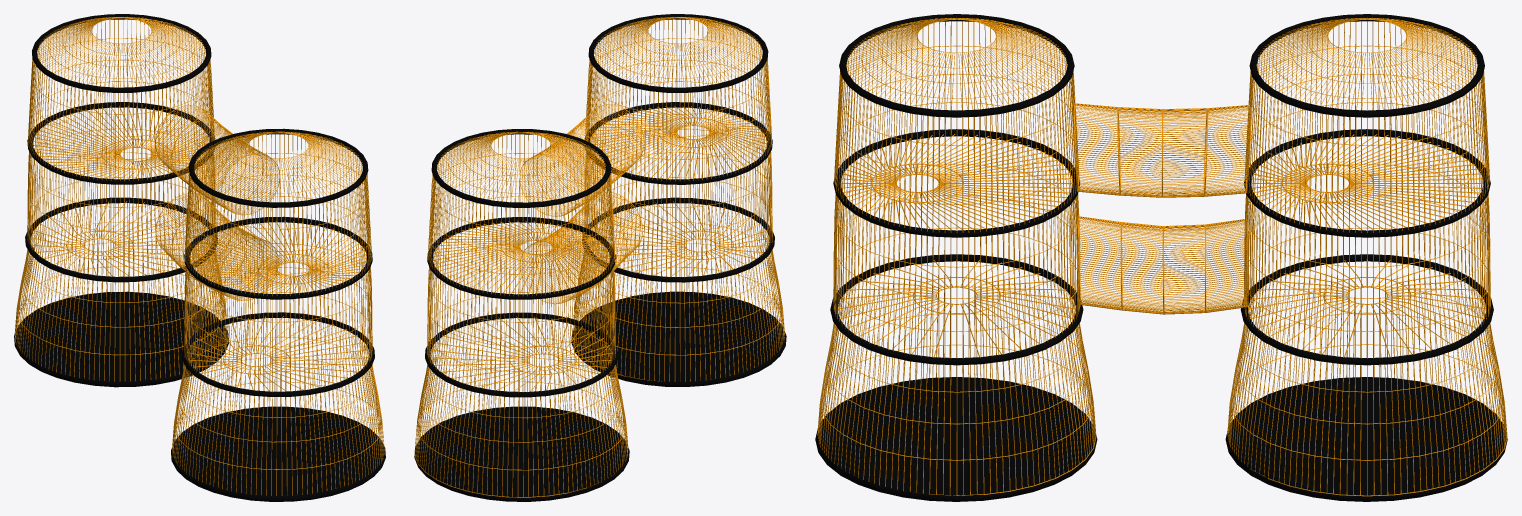
The model's file is Uley.fbx.
3 renders of one model, left to right at view 1: azimuth 30°, elevation 25°; view 2: azimuth 150°, elevation 25°; view 3: azimuth 270°, elevation 25°, orthographic. The views are drawn at different scales.
Visible parts, largest first — view 1: Cylinder.008, Cylinder.009, Cylinder.005, Cylinder.004, Cylinder.002, Cylinder.003, Cylinder, Cylinder.001, Cone.009, Cone.001, Cone.008, Cone (+8 smaller); view 2: Cylinder.009, Cylinder.008, Cylinder.002, Cylinder.001, Cylinder.005, Cylinder, Cylinder.003, Cylinder.004, Cone.001, Cone.009, Cone, Cone.008 (+8 smaller); view 3: Cylinder.008, Cylinder.009, Cylinder.005, Cylinder.002, Cylinder.003, Cylinder.004, Cylinder, Cylinder.001, Cylinder.007, Cylinder.006, Cone.001, Cone.009 (+8 smaller).
Boxes of the visible parts, x1,y1,x2,y2 form: Cylinder.008: (171,406,385,501); Cylinder.009: (14,291,228,387); Cylinder.005: (172,318,384,495); Cylinder.004: (184,222,372,392); Cylinder.002: (14,203,228,381); Cylinder.003: (185,134,371,295); Cylinder: (28,19,214,181); Cylinder.001: (27,107,215,277); Cone.009: (187,220,369,391); Cone.001: (31,106,211,276); Cone.008: (194,131,362,202); Cone: (37,17,205,87); Cylinder.009: (414,406,629,501); Cylinder.008: (571,291,786,386); Cylinder.002: (414,318,628,497); Cylinder.001: (427,222,615,392); Cylinder.005: (572,203,784,381); Cylinder: (427,134,614,296); Cylinder.003: (585,19,771,181); Cylinder.004: (584,107,772,277); Cone.001: (430,220,612,391); Cone.009: (589,106,769,276); Cone: (437,131,605,202); Cone.008: (594,17,762,87); Cylinder.008: (815,377,1097,501); Cylinder.009: (1225,377,1507,501); Cylinder.005: (817,262,1096,495); Cylinder.002: (1227,262,1507,496); Cylinder.003: (834,21,1079,232); Cylinder.004: (833,137,1080,358); Cylinder: (1244,21,1489,233); Cylinder.001: (1243,137,1490,358); Cylinder.007: (1073,103,1251,197); Cylinder.006: (1078,216,1248,314); Cone.001: (1248,134,1485,357); Cone.009: (838,134,1075,357).
Bounding box in the file's own units: 157 × 251 × 385.
